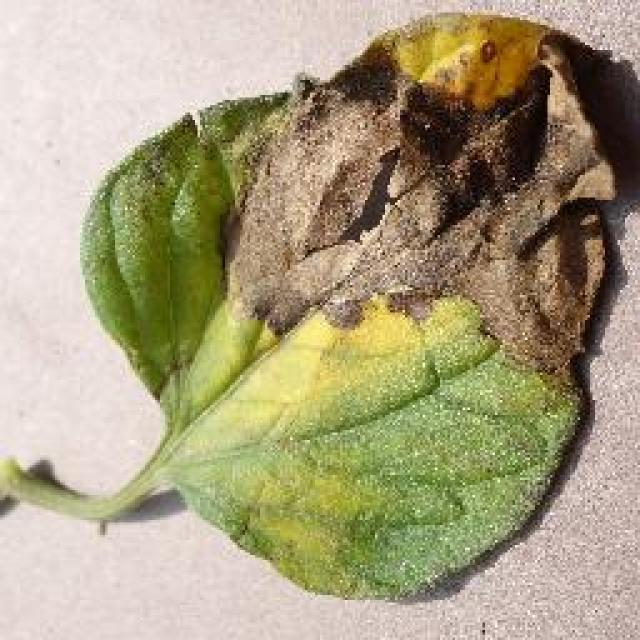Tomato late blight leaf: (80, 9, 622, 598)
